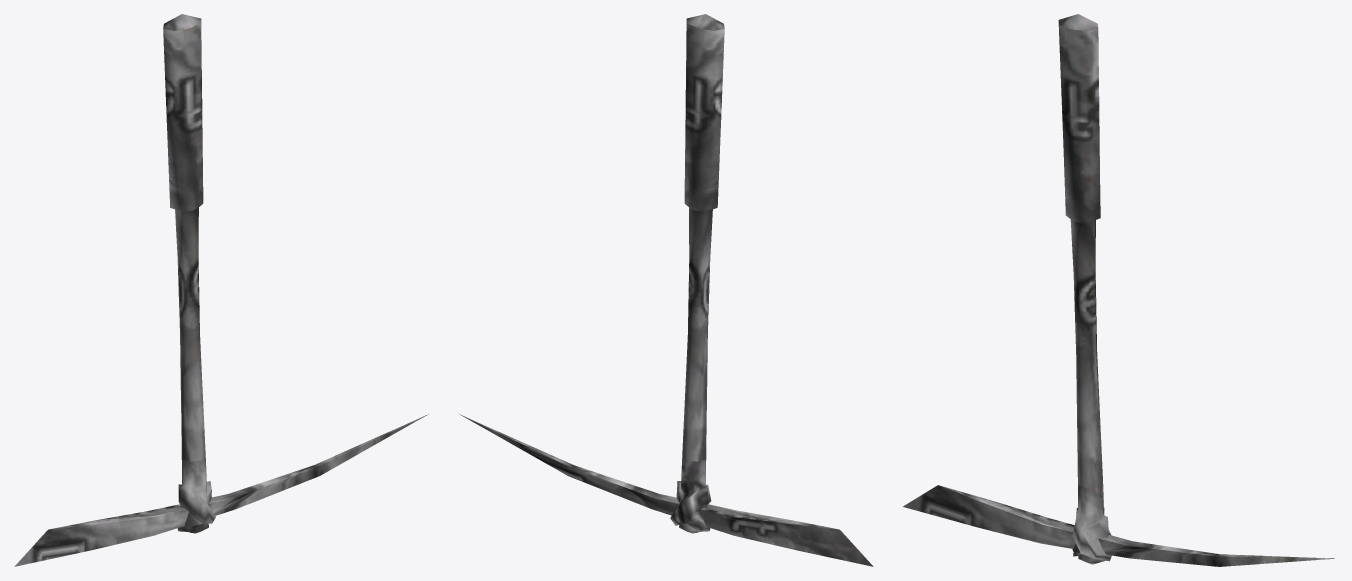
The model's file is INST_SWORDLIGHT_PICKAX.fbx.
3 views of the same model, side by side, from view 1: azimuth 30°, elevation 25°; view 2: azimuth 150°, elevation 25°; view 3: azimuth 330°, elevation 25° (orthographic). The views are drawn at different scales.
Visible parts, largest first — view 1: INST_SWORDLIGHT_PICKAX; view 2: INST_SWORDLIGHT_PICKAX; view 3: INST_SWORDLIGHT_PICKAX.
Boxes of the visible parts, <box> form: INST_SWORDLIGHT_PICKAX: <box>14,14,428,566</box>; INST_SWORDLIGHT_PICKAX: <box>459,14,873,566</box>; INST_SWORDLIGHT_PICKAX: <box>903,14,1334,566</box>.
Bounding box in the file's own units: 8424 × 10123 × 700.
1 material, 1 textured.
